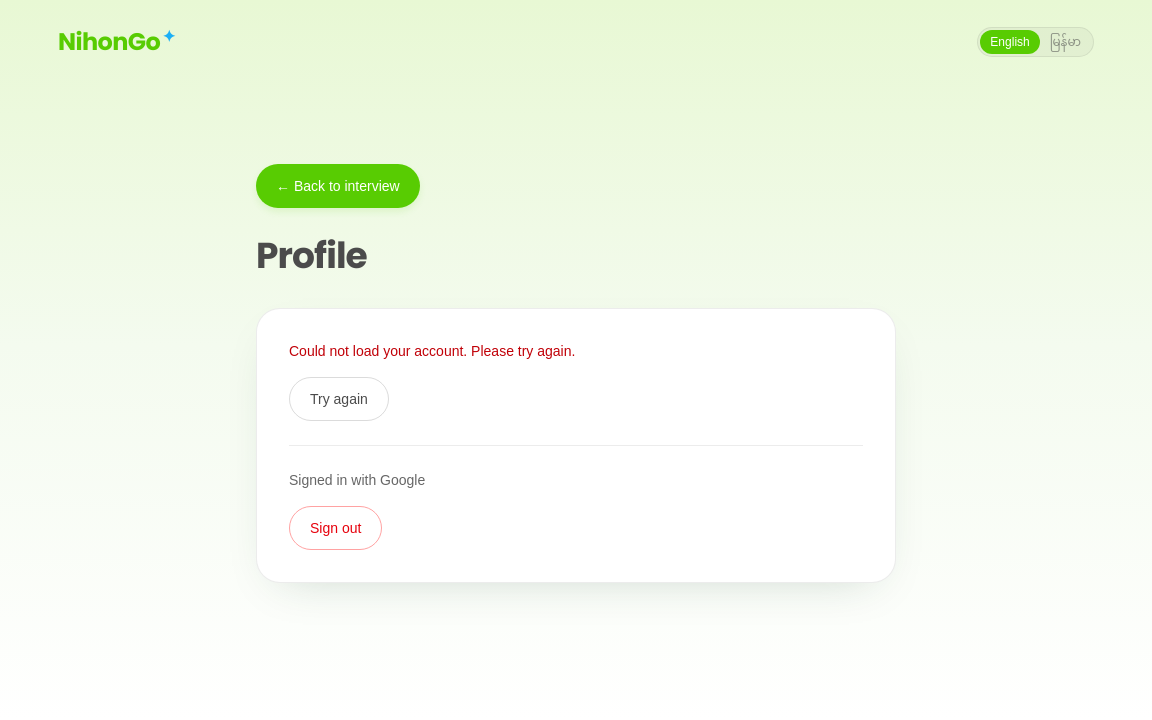
Test case: Profile page › keeps a newer successful load when an older retry fails later
Click the button "Try again".
click(339, 399)  # box [289, 377, 389, 421]
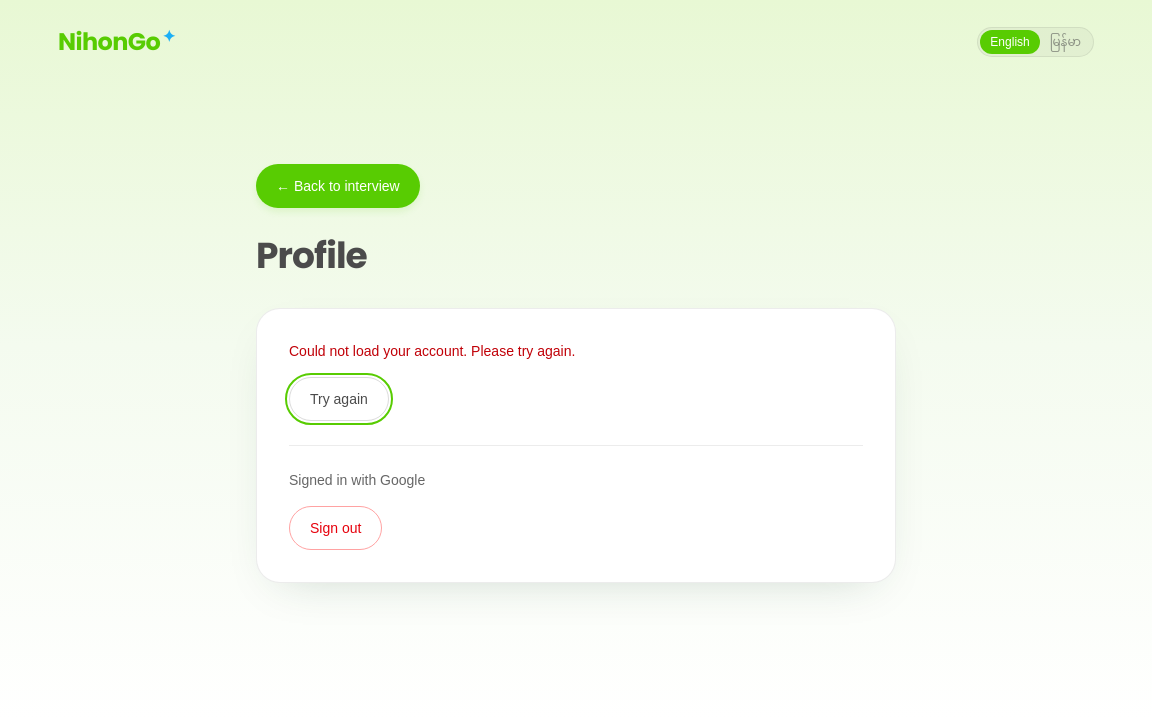
Click the button "Try again".
click(339, 399)  # box [289, 377, 389, 421]
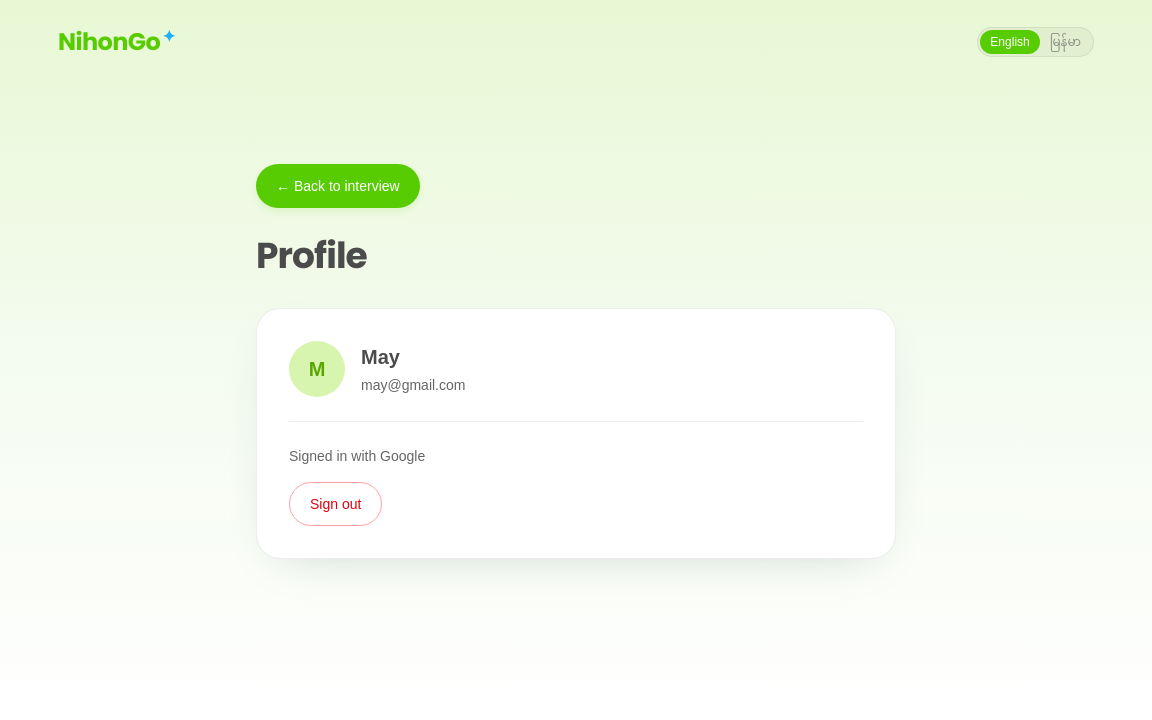
Result: the text "May" is shown at [361, 346, 400, 368]
Result: the message "Could not load your account. Please try again." is gone
